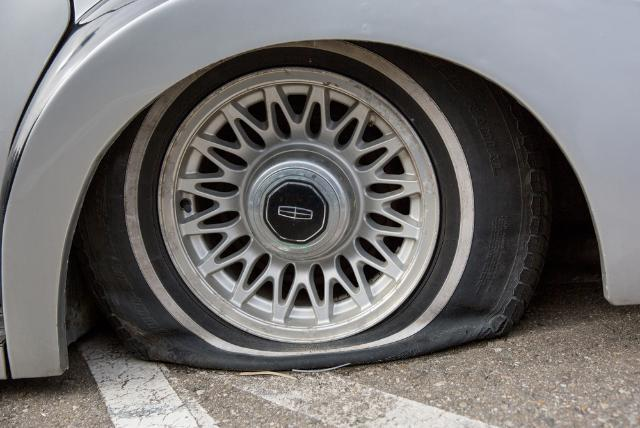tire flat: (76, 40, 555, 372)
